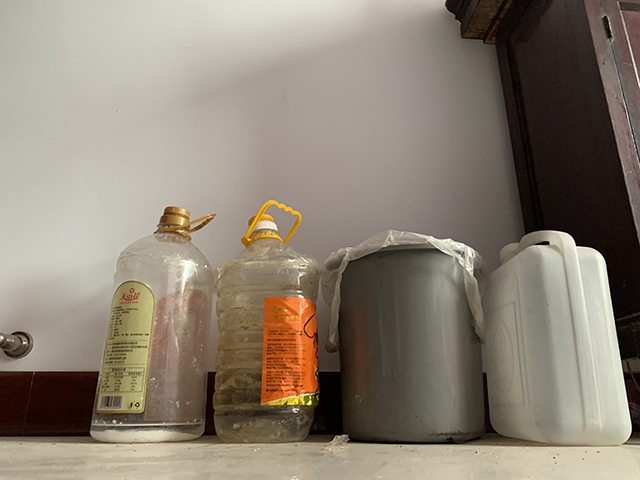trashcan: (320, 228, 487, 446)
